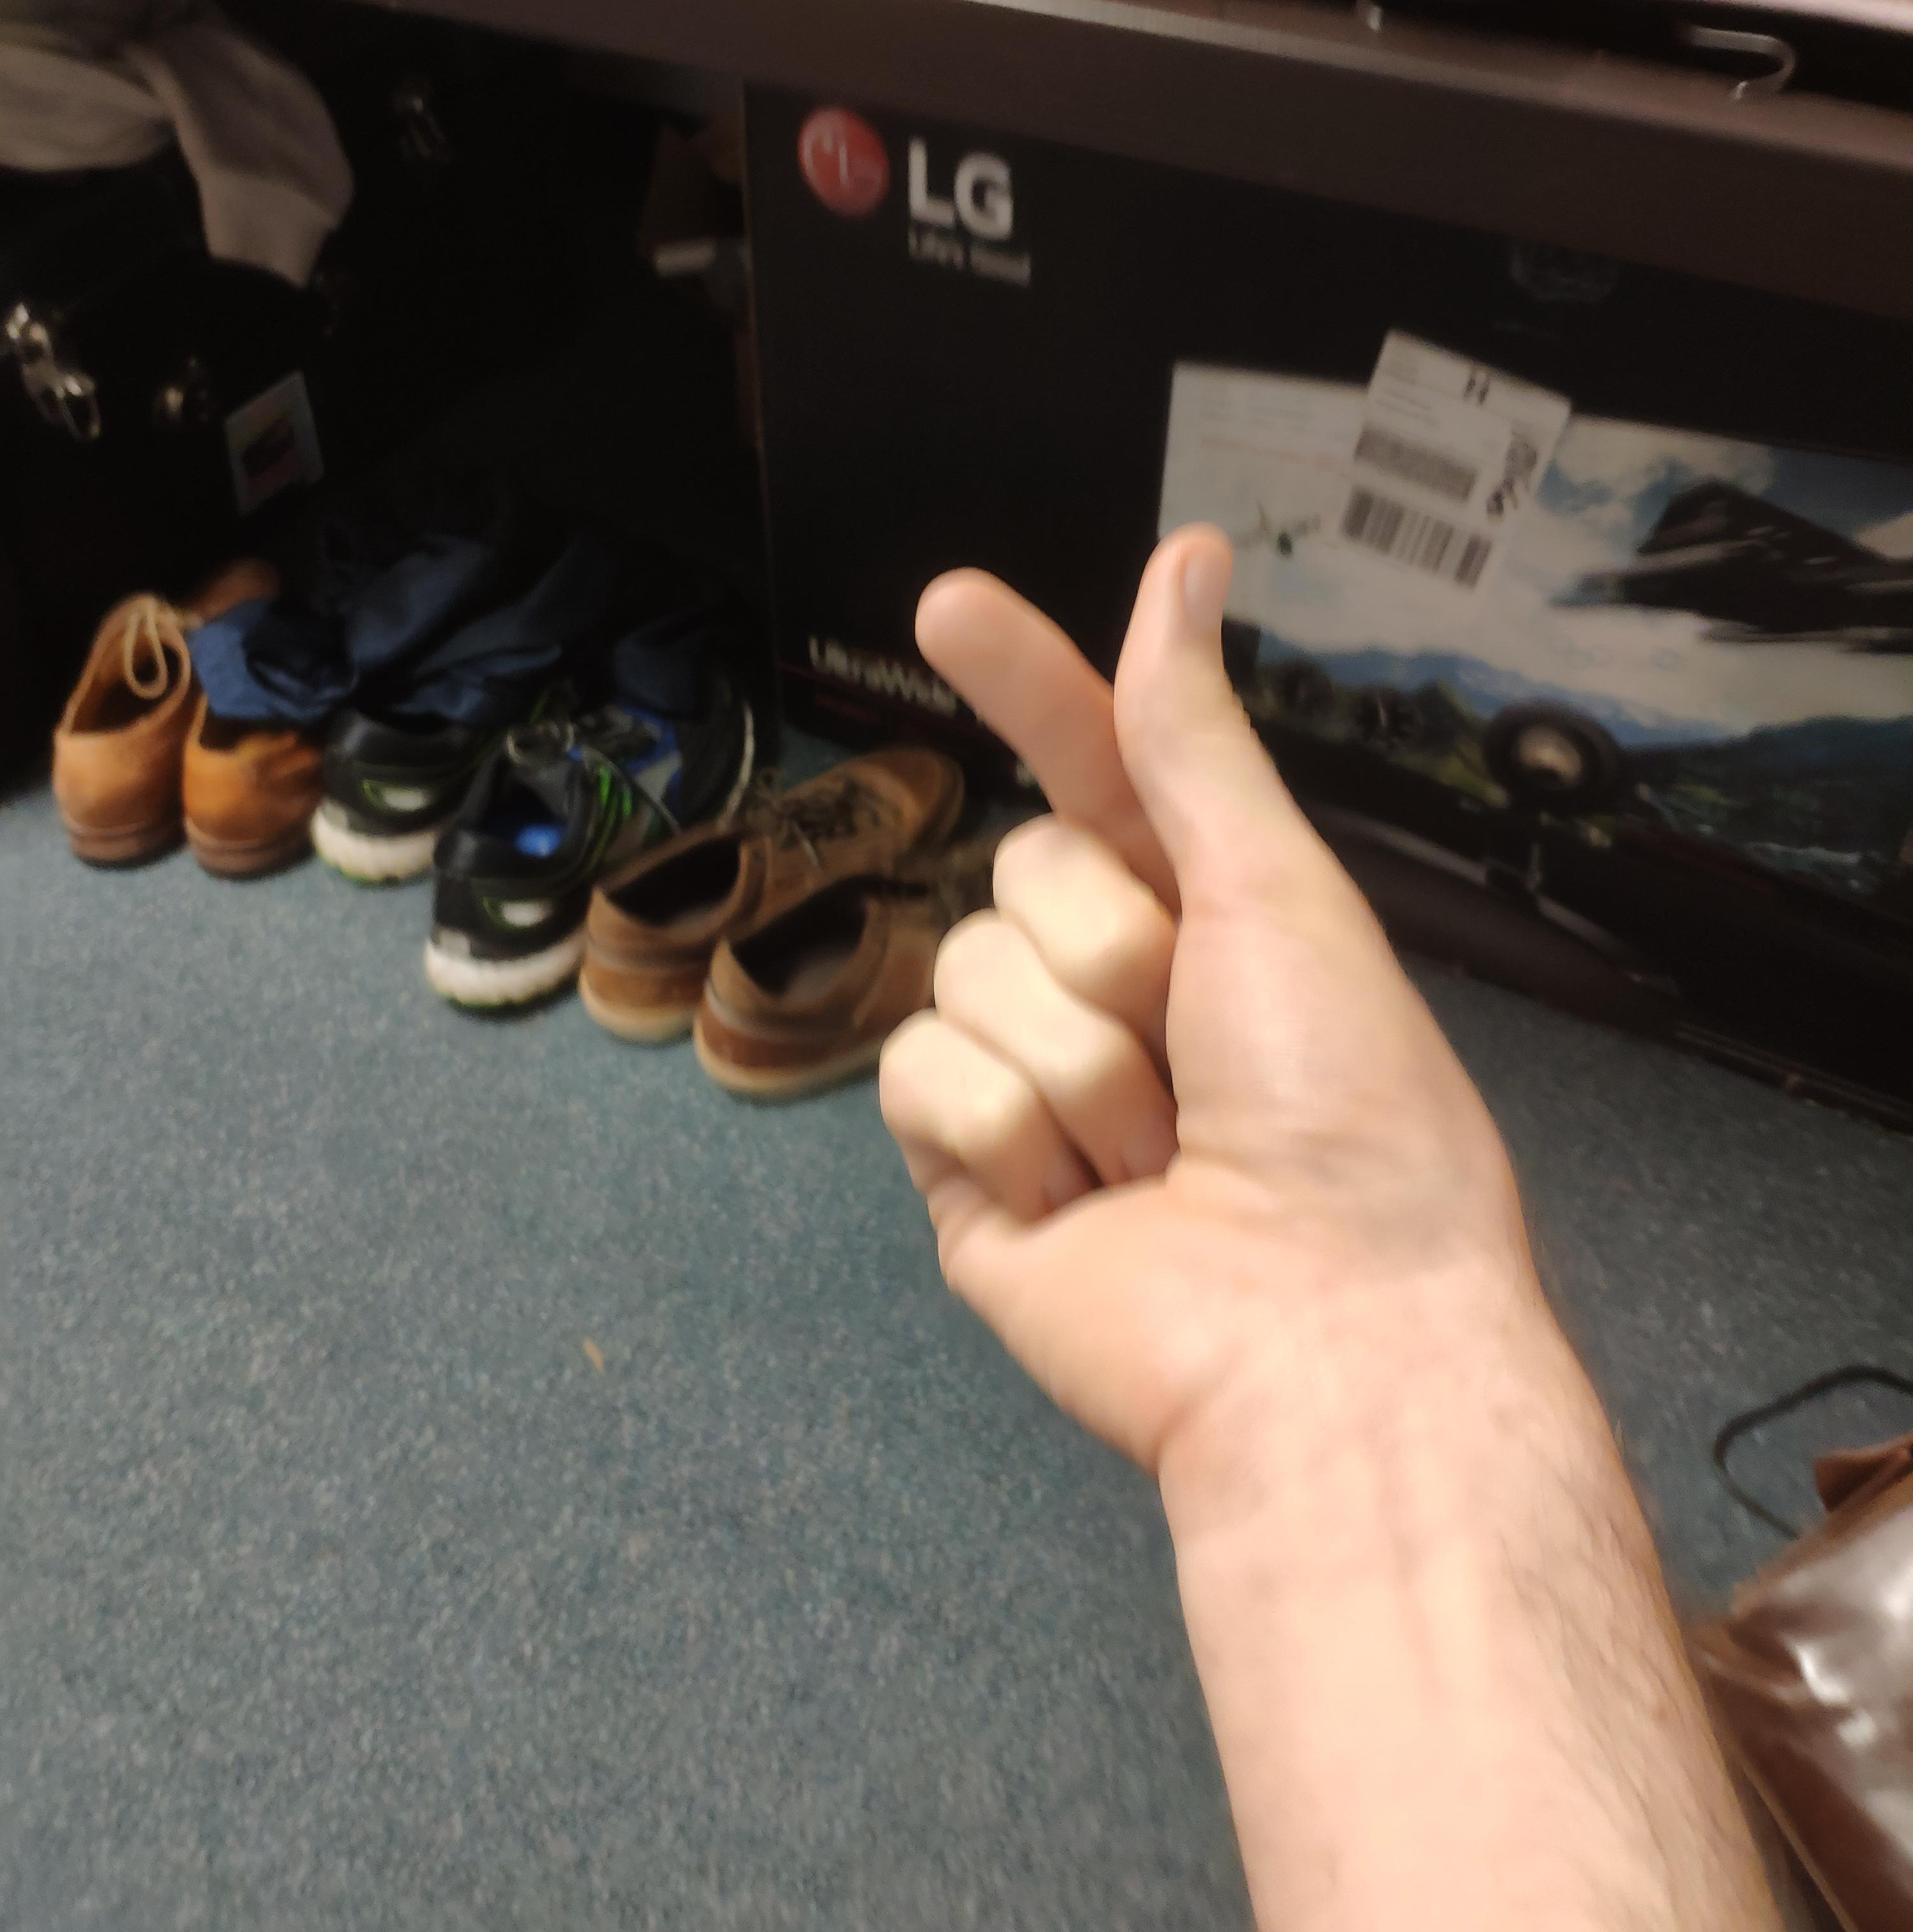heart gesture: (911, 510, 1249, 843)
